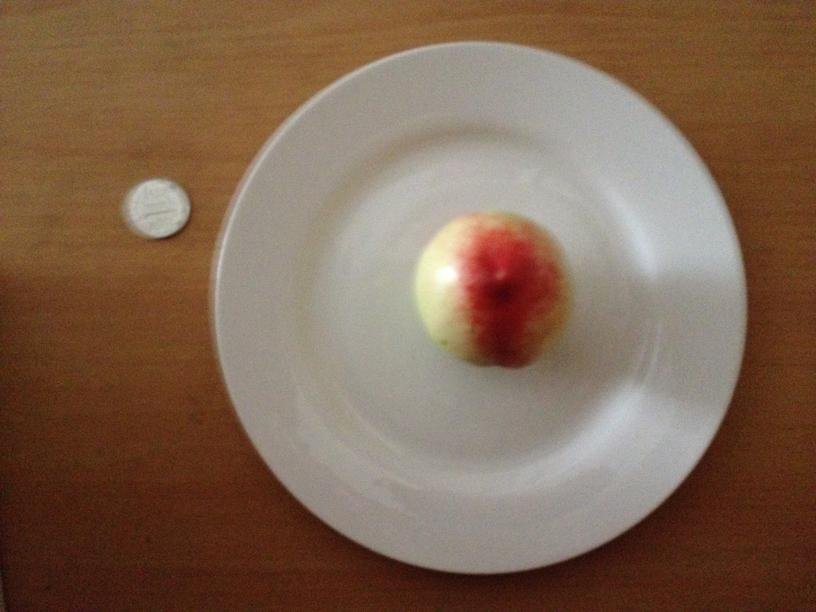coin: (123, 177, 191, 239)
peach: (413, 214, 569, 366)
